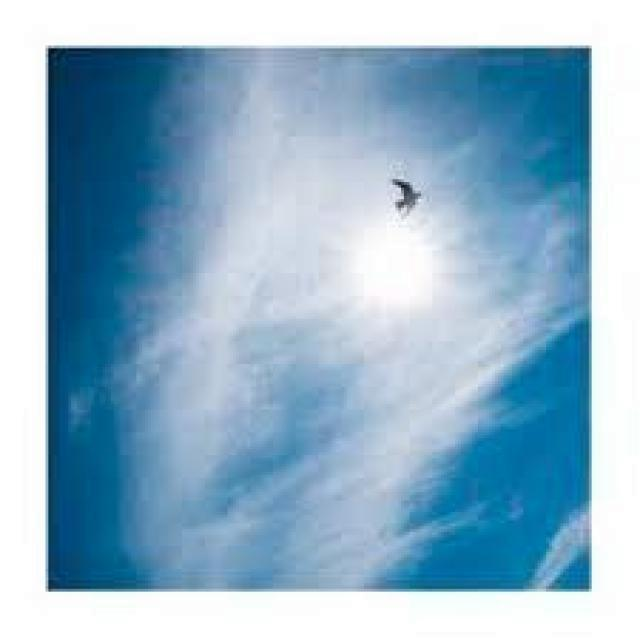bird: (384, 172, 430, 222)
